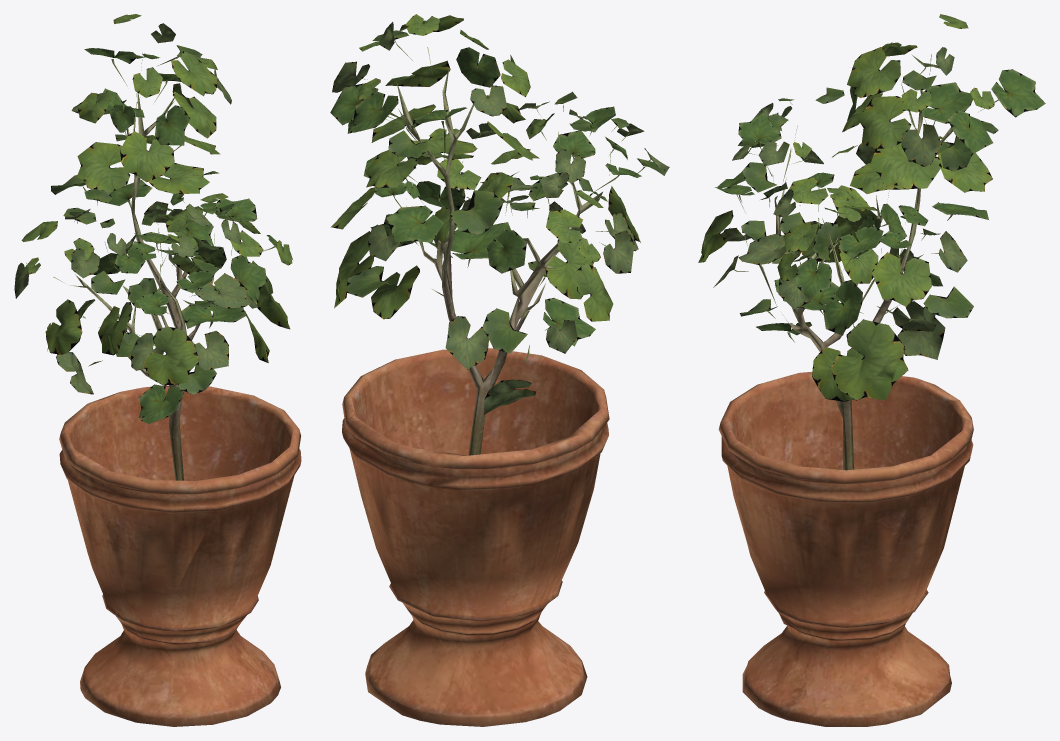
The model's file is planter-mobile.glb.
3 renders of one model, left to right at view 1: azimuth 30°, elevation 25°; view 2: azimuth 150°, elevation 25°; view 3: azimuth 270°, elevation 25°, orthographic. The views are drawn at different scales.
Visible parts, largest first — view 1: potted_plant_01_pot, potted_plant_01_leaves, potted_plant_01_stem; view 2: potted_plant_01_pot, potted_plant_01_leaves, potted_plant_01_stem; view 3: potted_plant_01_pot, potted_plant_01_leaves, potted_plant_01_stem.
Part boxes in pixels (left/top/right/bottom): potted_plant_01_pot: left=59, top=385, right=301, bottom=726; potted_plant_01_leaves: left=14, top=14, right=292, bottom=423; potted_plant_01_stem: left=54, top=54, right=214, bottom=480; potted_plant_01_pot: left=342, top=348, right=609, bottom=726; potted_plant_01_leaves: left=330, top=14, right=669, bottom=414; potted_plant_01_stem: left=396, top=47, right=611, bottom=455; potted_plant_01_pot: left=718, top=372, right=973, bottom=726; potted_plant_01_leaves: left=698, top=14, right=1045, bottom=401; potted_plant_01_stem: left=759, top=55, right=964, bottom=470.
Size of the model in its own units: 0.5846 by 1.33 by 0.6336.
Materials: 2 (2 with a texture image).
